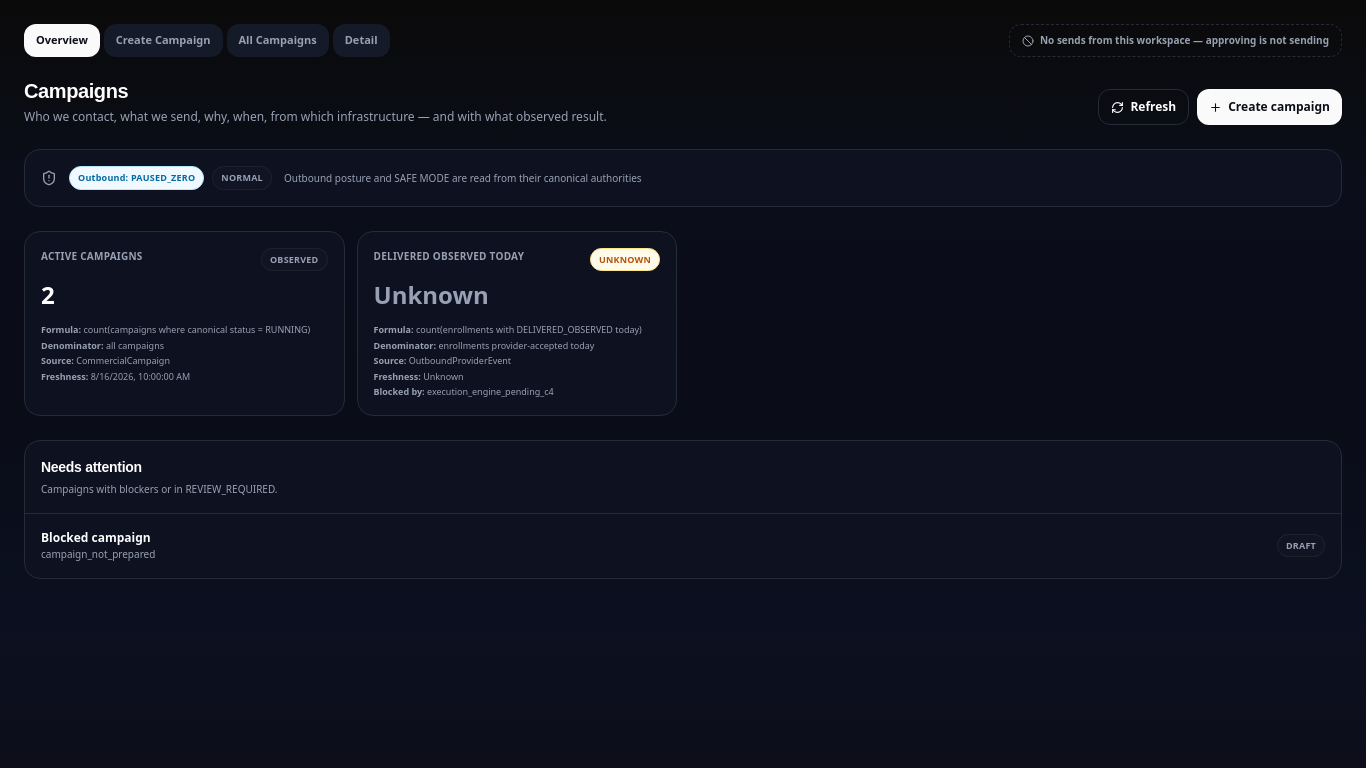
Test: AdminCampaigns — all campaigns › shows a fail-visible state when the source is unavailable instead of an empty table
Check: the element with test id "campaign-kpi-active_campaigns" is shown, box [24, 230, 344, 416]
Click the button "All Campaigns" at (278, 41), box [226, 24, 329, 57]
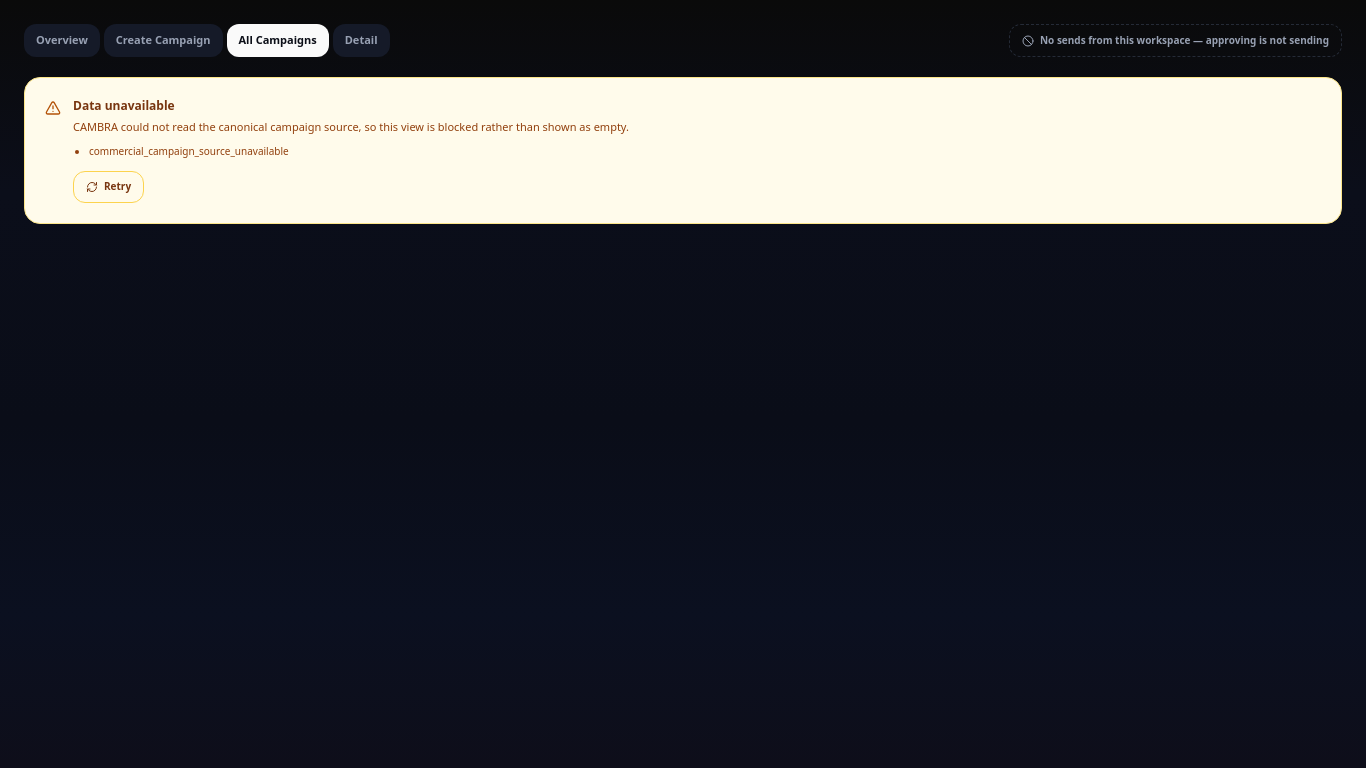
Check: the element with test id "campaigns-data-unavailable" shows "Data unavailable", box [73, 97, 175, 114]
Check: the element with test id "campaigns-data-unavailable" shows "commercial_campaign_source_unavailable", box [89, 144, 289, 158]
